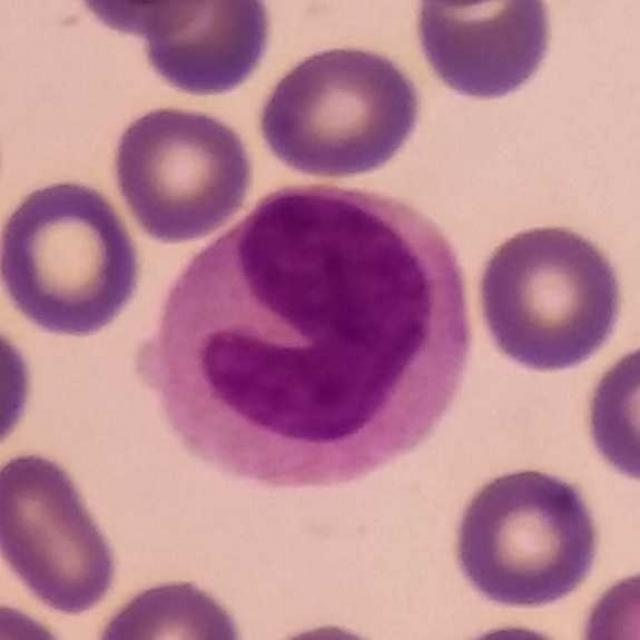Monocyte: (145, 184, 482, 502)
RBC: (470, 216, 631, 376), (254, 38, 426, 182), (0, 172, 147, 340), (448, 461, 604, 612), (0, 445, 125, 618), (107, 100, 257, 244), (407, 0, 560, 106), (132, 0, 278, 100), (86, 572, 252, 640), (579, 334, 640, 489), (64, 0, 220, 39), (0, 314, 39, 464), (574, 562, 640, 640), (239, 616, 413, 640), (0, 596, 81, 640), (438, 617, 592, 640)
